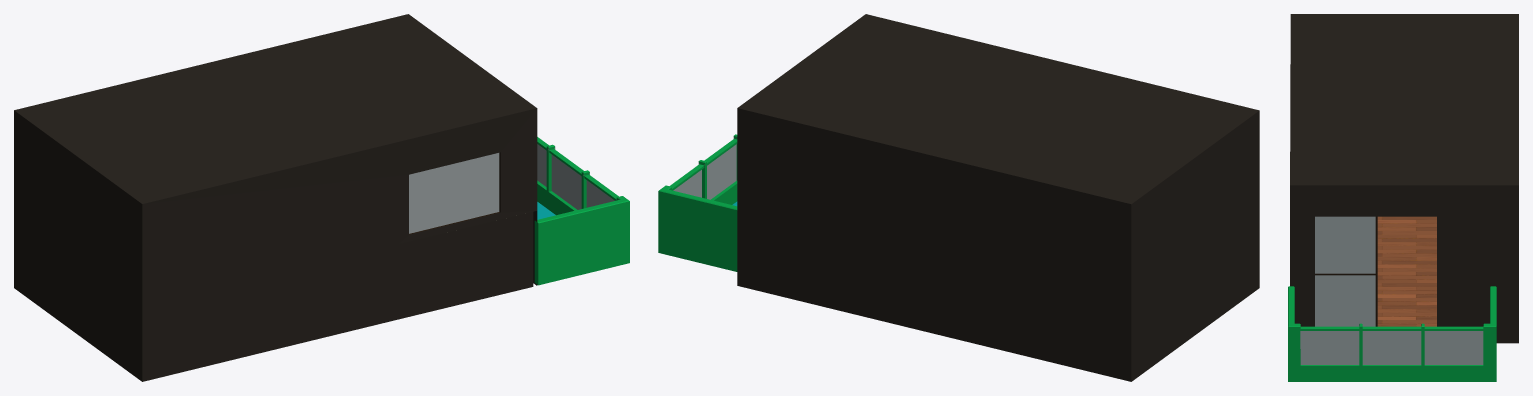
Rendered from ApartmentShell.fbx.
3 renders of one model, left to right at view 1: azimuth 30°, elevation 25°; view 2: azimuth 150°, elevation 25°; view 3: azimuth 270°, elevation 25°, orthographic. The views are drawn at different scales.
Parts seen in each view (by area): view 1: pCube1, pPlane1, pCube4, pCube30; view 2: pCube1, pPlane1, pCube30; view 3: pCube1, pPlane1, pCube3, pCube2, pCube28, pCube29, pCube30.
Boxes of the visible parts, x1=… form: pCube1: x1=14, y1=14, x2=537, y2=381; pPlane1: x1=534, y1=137, x2=629, y2=285; pCube4: x1=409, y1=153, x2=499, y2=233; pCube30: x1=551, y1=154, x2=581, y2=209; pCube1: x1=737, y1=14, x2=1259, y2=381; pPlane1: x1=658, y1=134, x2=737, y2=271; pCube30: x1=707, y1=144, x2=736, y2=199; pCube1: x1=1290, y1=14, x2=1518, y2=343; pPlane1: x1=1288, y1=286, x2=1496, y2=381; pCube3: x1=1315, y1=216, x2=1375, y2=273; pCube2: x1=1315, y1=275, x2=1375, y2=326; pCube28: x1=1300, y1=331, x2=1359, y2=364; pCube29: x1=1424, y1=331, x2=1483, y2=364; pCube30: x1=1362, y1=331, x2=1421, y2=364.
Size of the model in its own units: 764 by 267 by 353.
